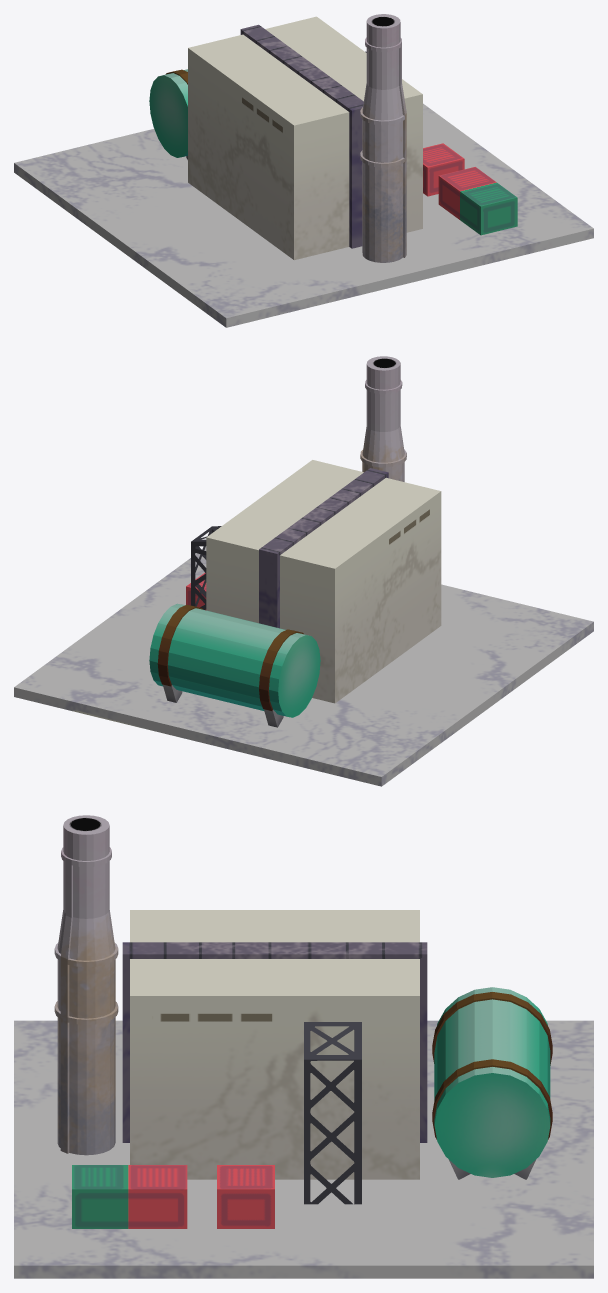
File: OilRefinery.fbx
3 renders of one model, top to bottom at view 1: azimuth 30°, elevation 25°; view 2: azimuth 150°, elevation 25°; view 3: azimuth 270°, elevation 25°, orthographic. The views are drawn at different scales.
Visible parts, largest first — view 1: Storage; view 2: Storage; view 3: Storage.
Part boxes in pixels (box(x1,y1,x2,y2)): Storage: box(14, 14, 593, 327); Storage: box(14, 356, 593, 786); Storage: box(14, 815, 593, 1278).
Size of the model in its own units: 200 by 126 by 200.
